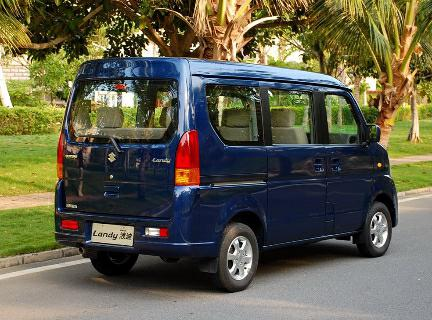铃木-浪迪: (49, 54, 404, 297)
